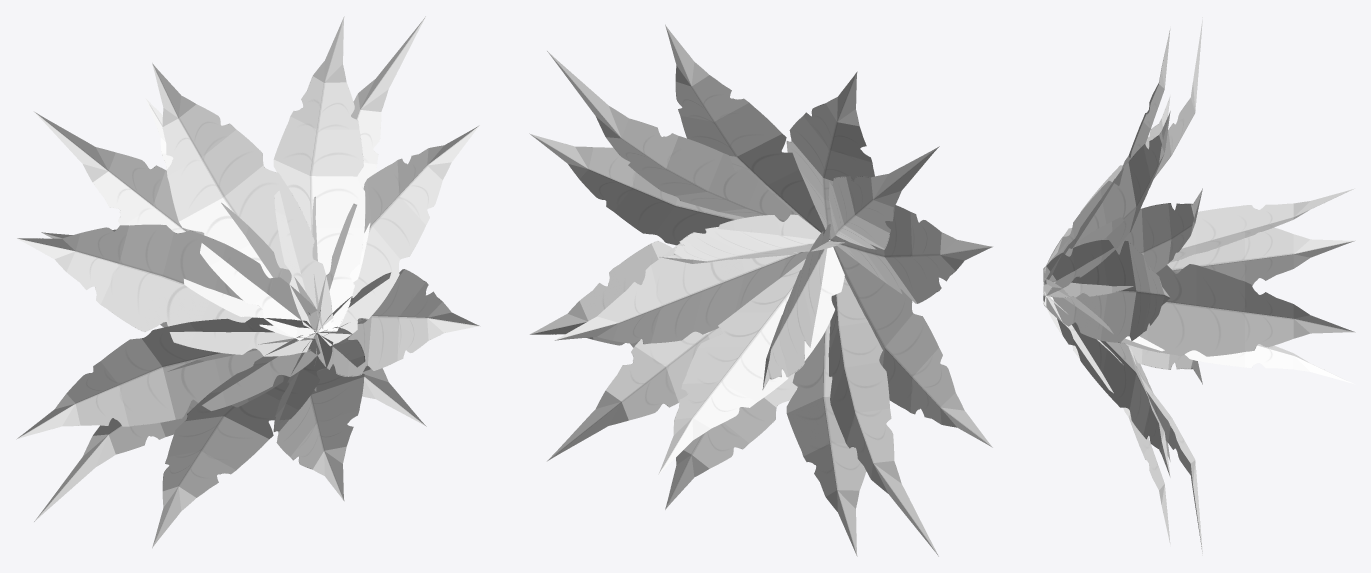
File: Fern2.fbx
The picture shows the model from 3 angles, left to right: view 1: azimuth 30°, elevation 25°; view 2: azimuth 150°, elevation 25°; view 3: azimuth 270°, elevation 25°; orthographic projection. The views are drawn at different scales.
Visible parts, largest first — view 1: Fern; view 2: Fern; view 3: Fern.
Boxes of the visible parts, left/top/right/bottom form: Fern: left=16, top=16, right=479, bottom=548; Fern: left=529, top=24, right=992, bottom=556; Fern: left=1043, top=17, right=1355, bottom=555.
Bounding box in the file's own units: 6437 × 6437 × 4049.
